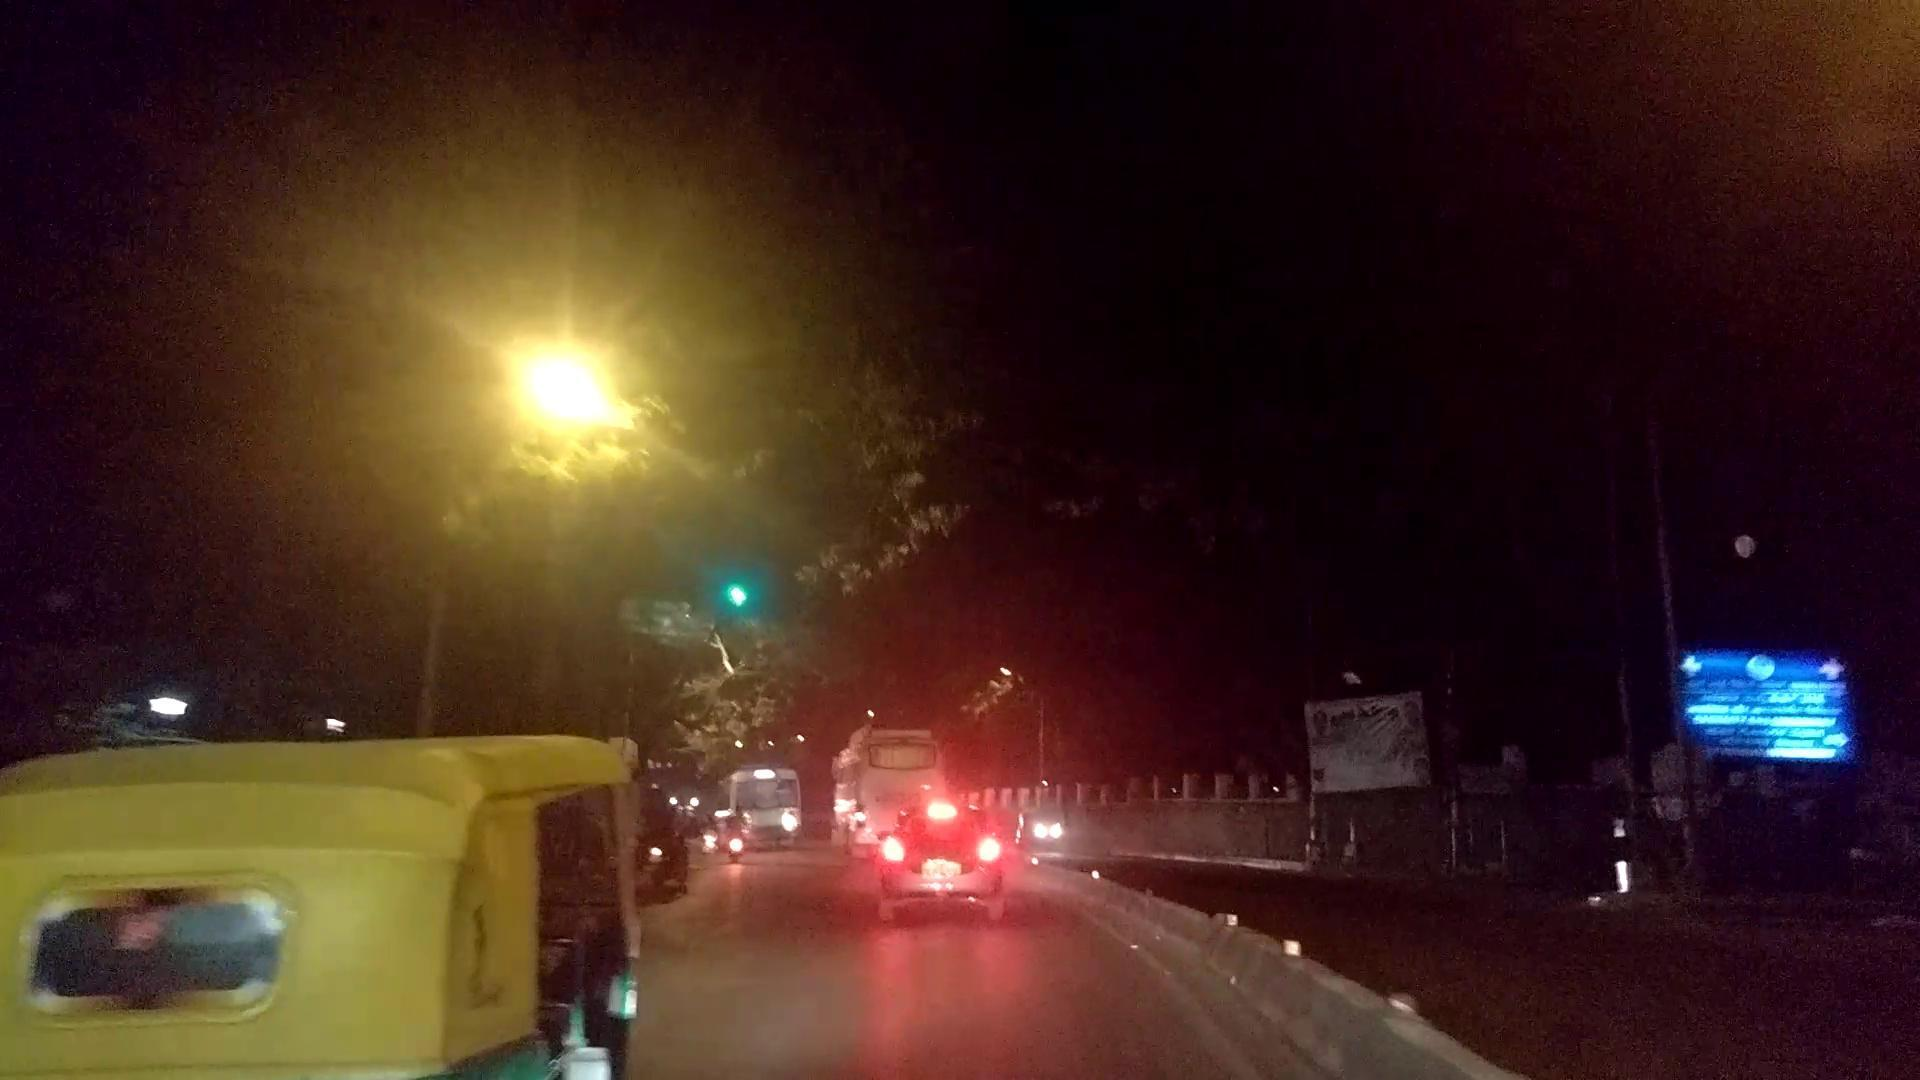on: (390, 202, 760, 667)
